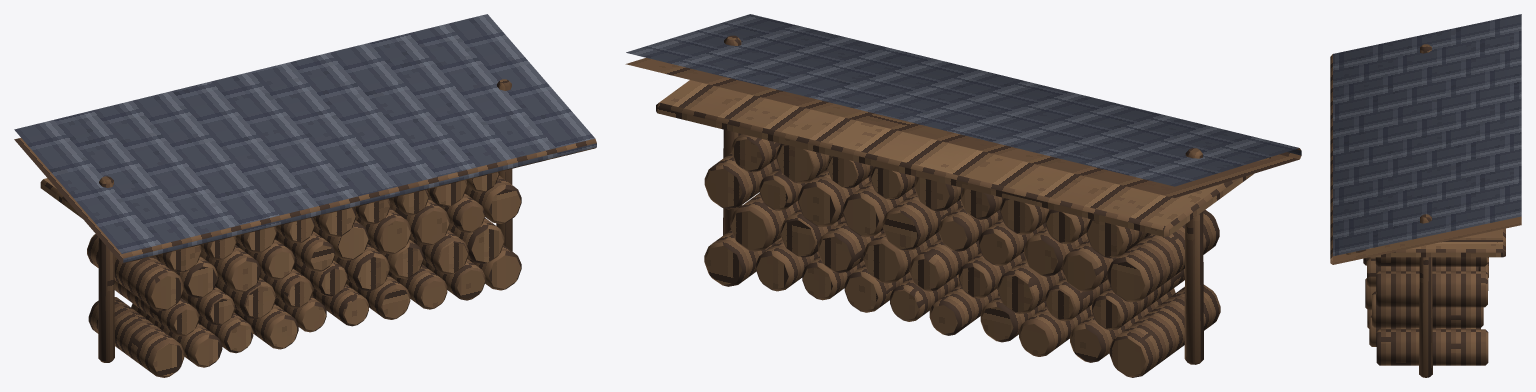
File: cn_firewood_stack_2.glb
The picture shows the model from 3 angles, left to right: view 1: azimuth 30°, elevation 25°; view 2: azimuth 150°, elevation 25°; view 3: azimuth 270°, elevation 25°; orthographic projection. The views are drawn at different scales.
Parts seen in each view (by area): view 1: cn_firewood_stack_3; view 2: cn_firewood_stack_3; view 3: cn_firewood_stack_3.
Boxes of the visible parts, bbox=[...] form: cn_firewood_stack_3: bbox=[14, 14, 596, 377]; cn_firewood_stack_3: bbox=[625, 14, 1301, 377]; cn_firewood_stack_3: bbox=[1330, 14, 1521, 377].
Bounding box in the file's own units: 3 × 1.21 × 1.2.
4 materials, 4 textured.
